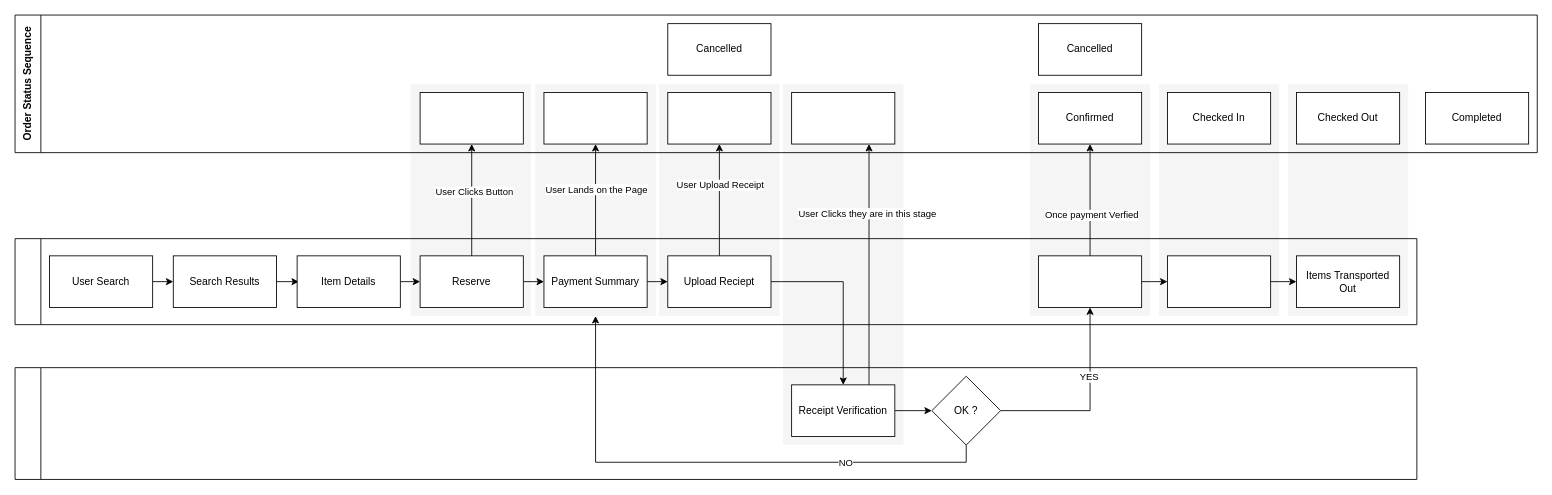
This 1552x495 diagram has some shape labels left out. The centre of each missing label's shape, as x and y in pixels:
"Booking Confirmed" goes at pixel 1090 281.
"Items Transported In" goes at pixel 1219 281.
"New" goes at pixel 471 118.
"Payment Pending" goes at pixel 595 118.
"Receipt Uploaded" goes at pixel 719 118.
"System Admins" goes at pixel 715 423.
"Under Verification" goes at pixel 843 118.
"User Journey" goes at pixel 715 281.
